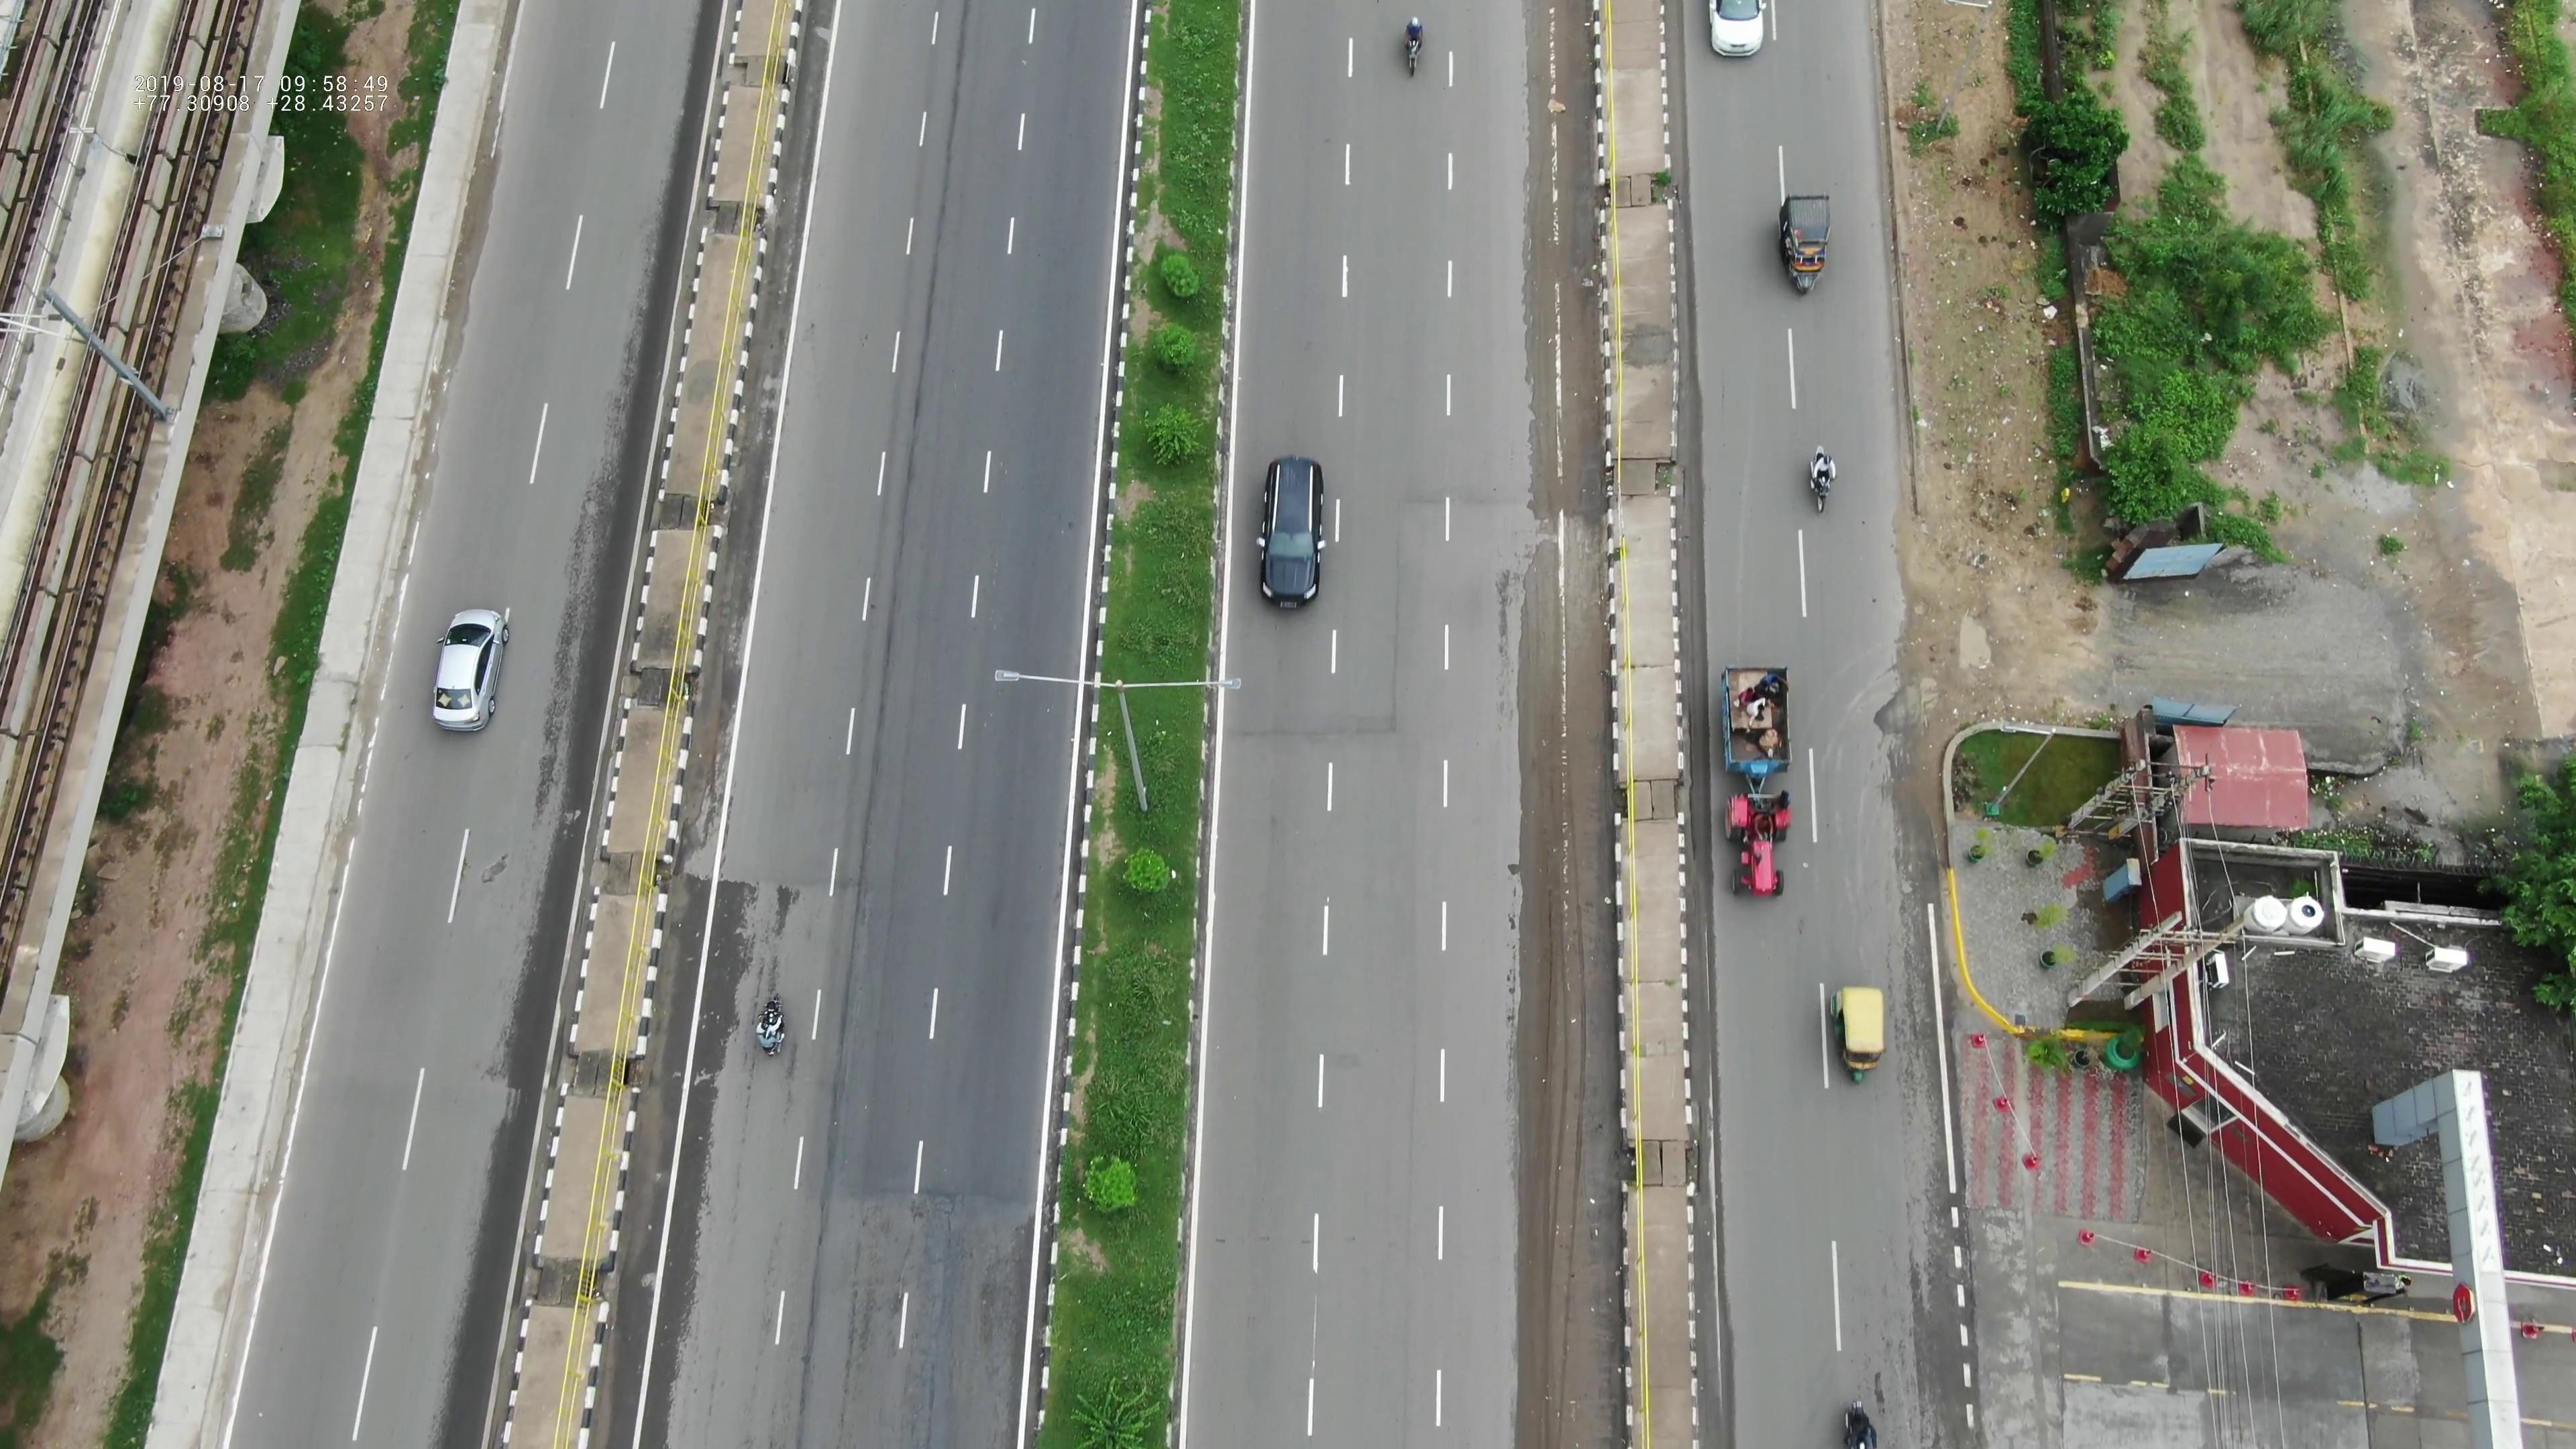Hair_cracks: (833, 1162, 1014, 1414)
Muddy_road: (1511, 12, 1603, 511), (1530, 524, 1614, 1049), (1518, 1053, 1619, 1447)
